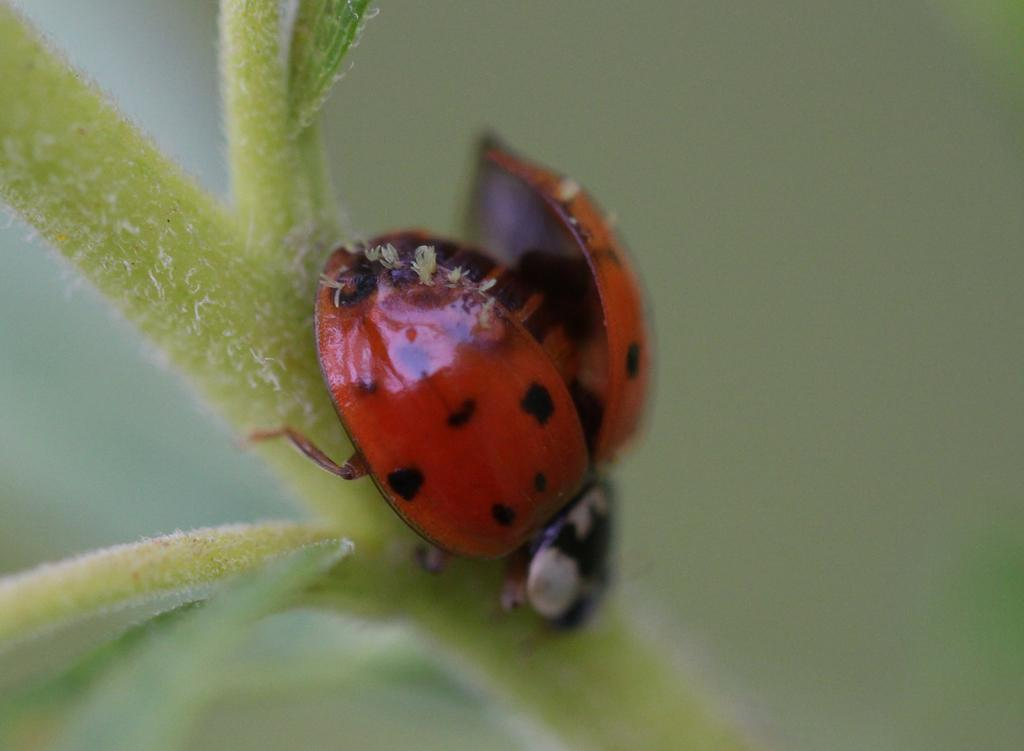ladybug: (243, 127, 657, 655)
